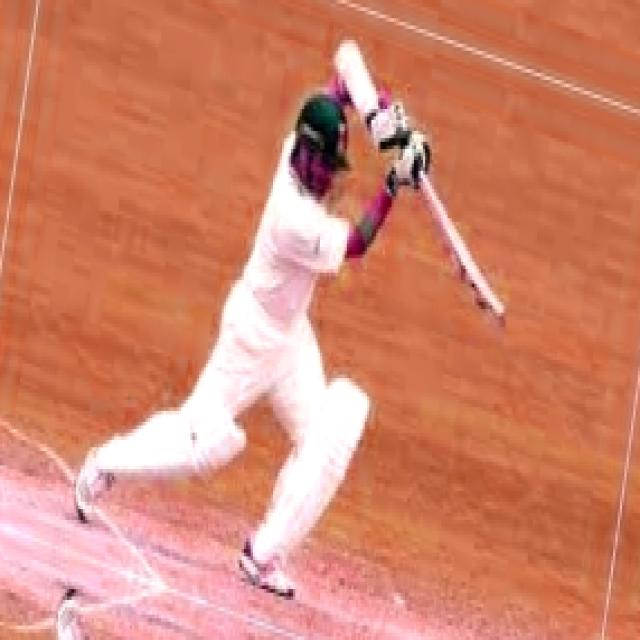toe: (468, 275, 514, 332)
